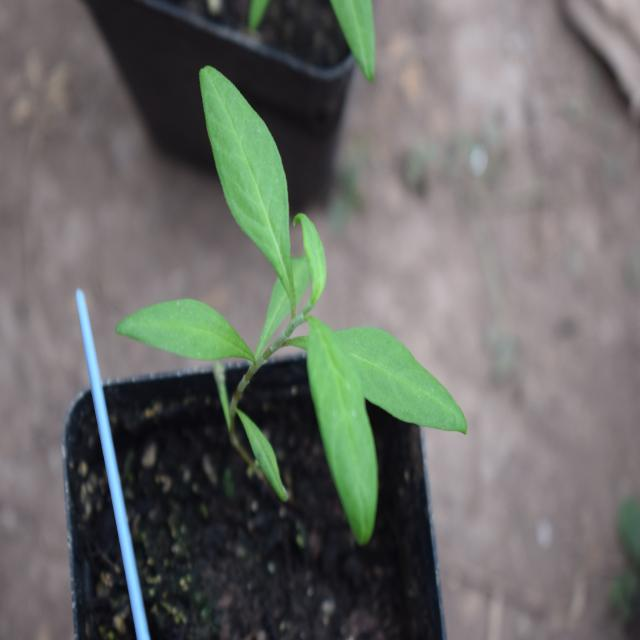white_smart_weed: (115, 91, 427, 522)
